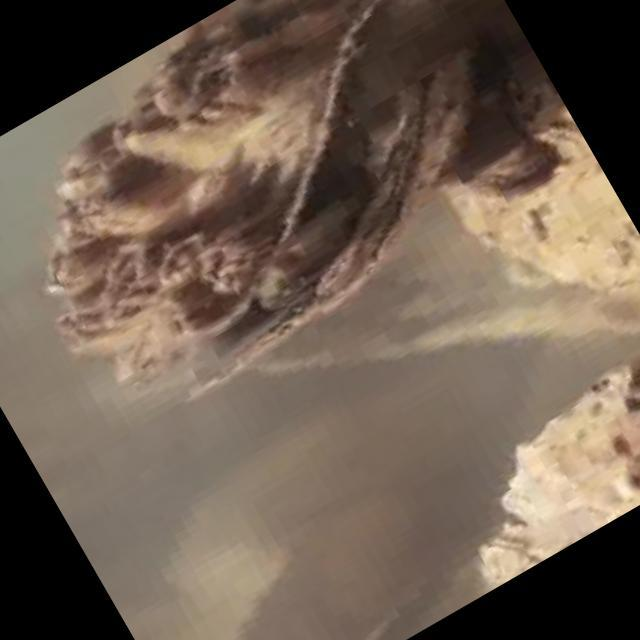Oyster- Indeterminate: (444, 50, 640, 292), (499, 371, 640, 553), (451, 39, 551, 201)
Oyster-Closed: (479, 540, 541, 592)
Oyster-Open: (54, 0, 471, 387)
